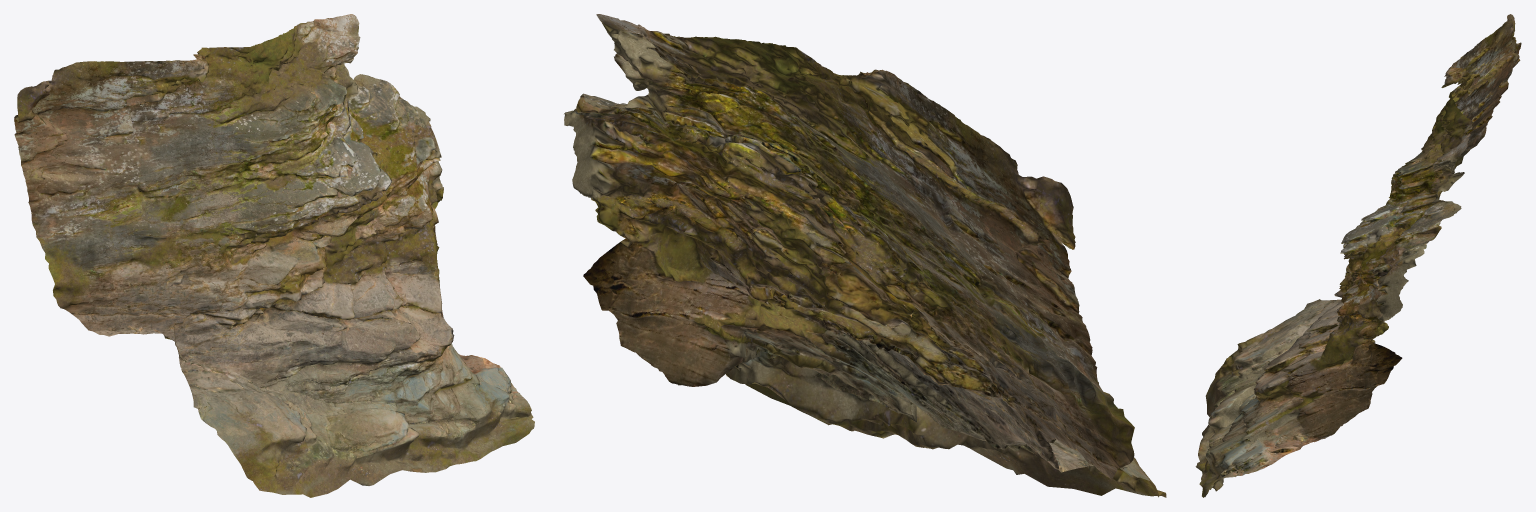
File: rock_face_02.glb
The picture shows the model from 3 angles, left to right: view 1: azimuth 30°, elevation 25°; view 2: azimuth 150°, elevation 25°; view 3: azimuth 270°, elevation 25°; orthographic projection. The views are drawn at different scales.
Parts seen in each view (by area): view 1: rock_face_02; view 2: rock_face_02; view 3: rock_face_02.
Part boxes in pixels (x1,y1,x2,y2): rock_face_02: (14, 14, 534, 497); rock_face_02: (564, 14, 1166, 497); rock_face_02: (1195, 14, 1521, 497).
Bounding box in the file's own units: 2.71 × 2.47 × 2.13.
1 material, 1 textured.
